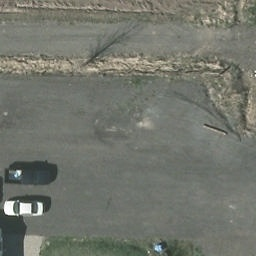car: (2, 201, 47, 216)
pickup: (5, 169, 53, 185)
